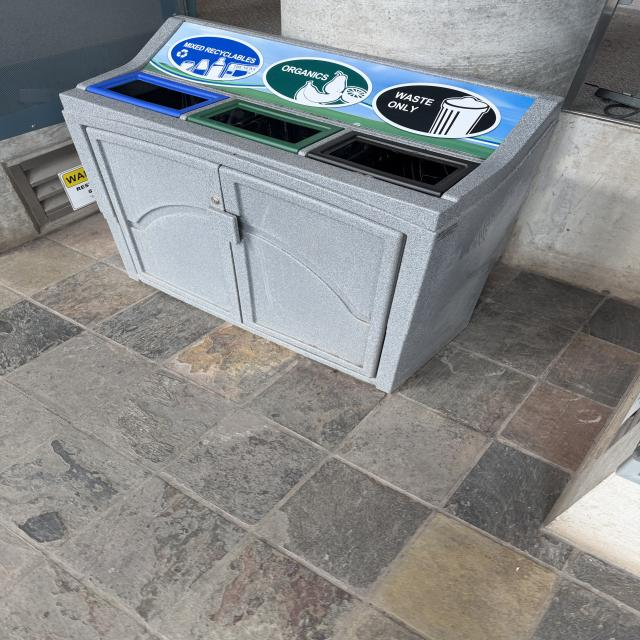Dustbin: (58, 13, 564, 398)
